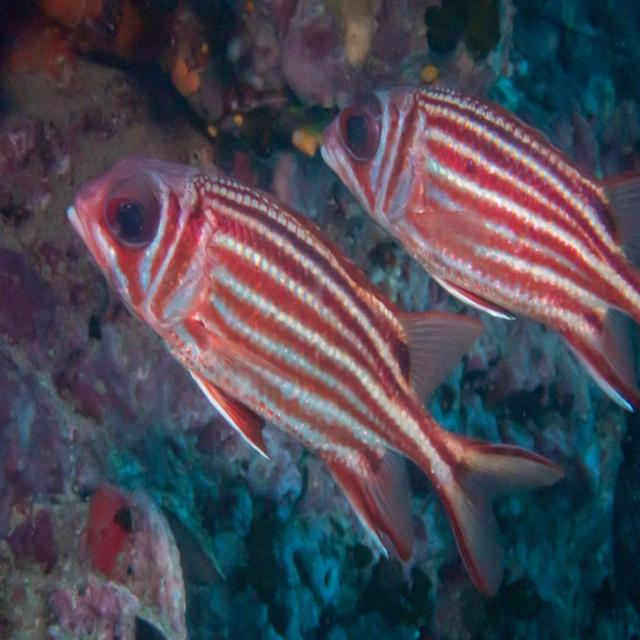Asker Baligi: (54, 150, 550, 588), (318, 80, 639, 415)
